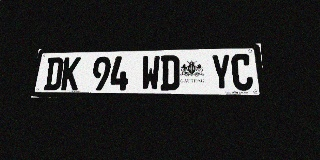4: (109, 56, 129, 90)
9: (91, 56, 111, 90)
C: (231, 54, 254, 91)
D: (43, 57, 64, 90), (160, 55, 179, 90)
K: (60, 57, 81, 90)
W: (141, 55, 160, 90)
Y: (211, 54, 232, 91)
